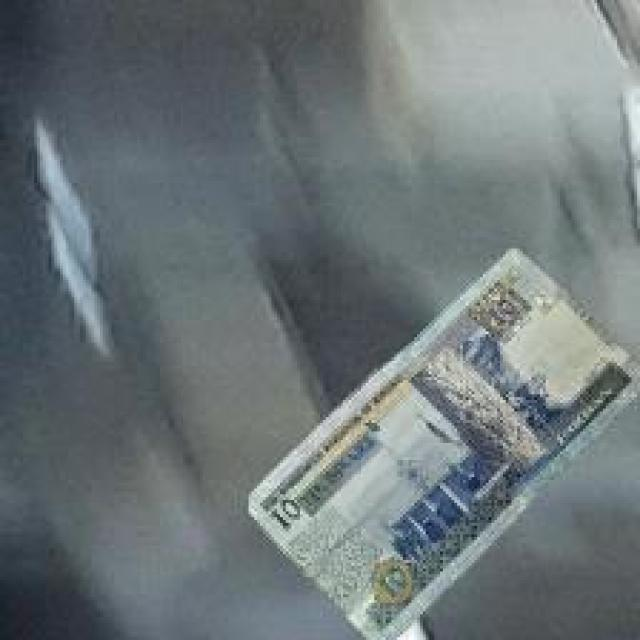10-dinar: (250, 245, 640, 640)
